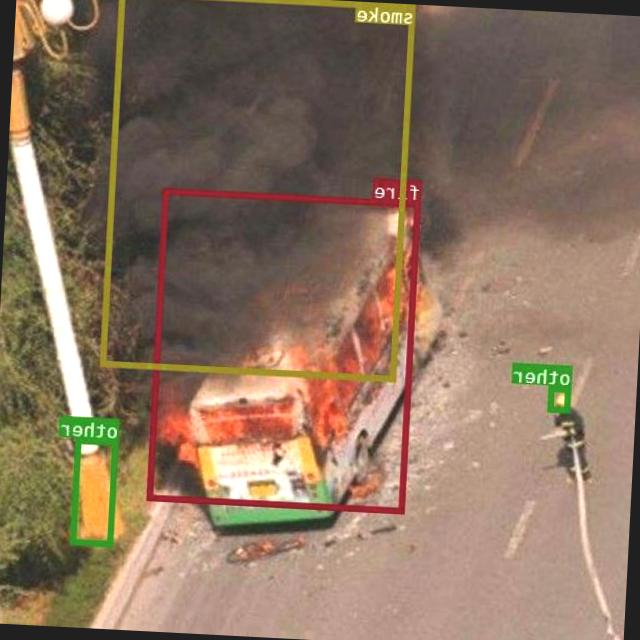fire: (148, 187, 422, 513)
smoke: (101, 0, 416, 380)
